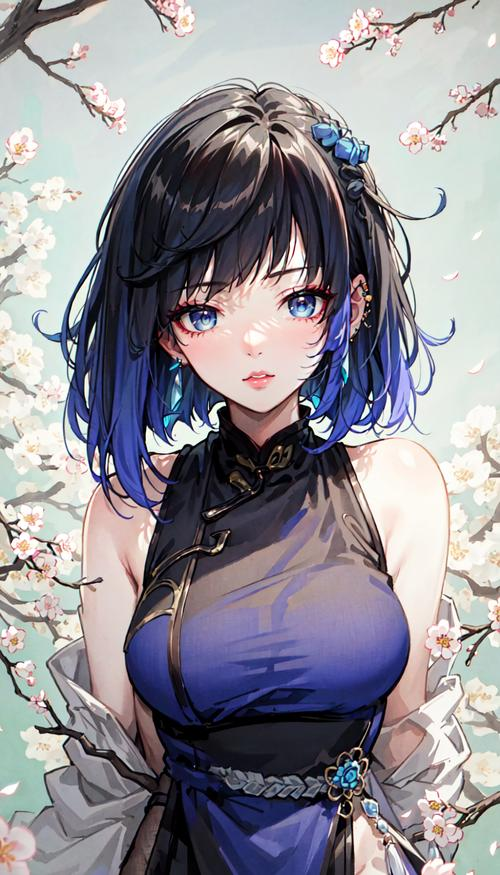夜兰: (77, 92, 455, 875)
